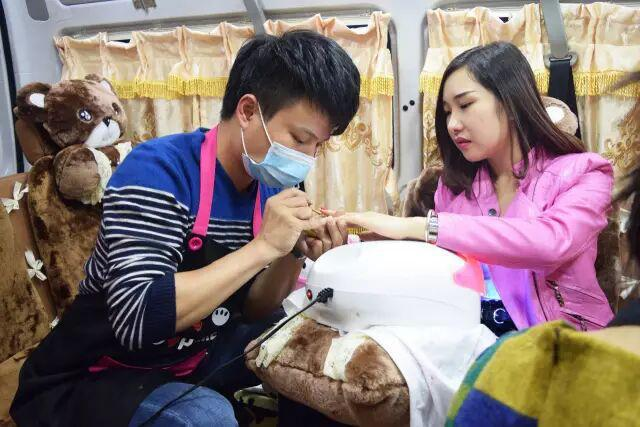NONE: (444, 87, 513, 158)
OK: (246, 106, 332, 192)
